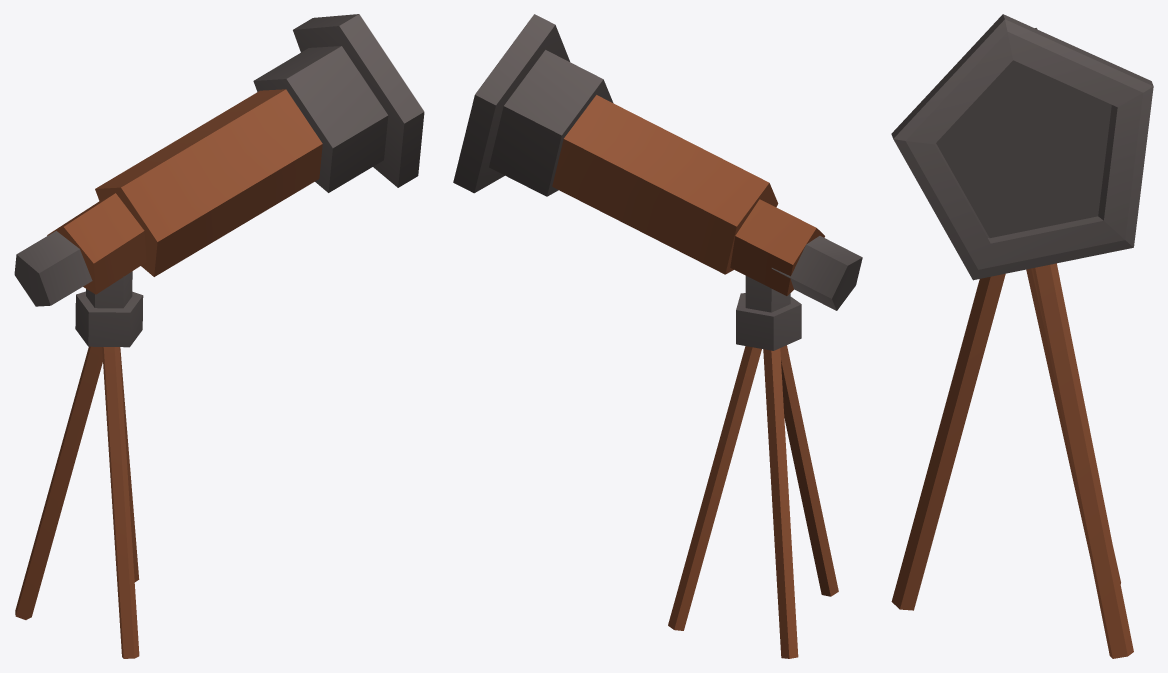
File: Telescope.fbx
The picture shows the model from 3 angles, left to right: view 1: azimuth 30°, elevation 25°; view 2: azimuth 150°, elevation 25°; view 3: azimuth 270°, elevation 25°; orthographic projection. The views are drawn at different scales.
Visible parts, largest first — view 1: Telescope; view 2: Telescope; view 3: Telescope.
Part boxes in pixels (x1,y1,x2,y2): Telescope: [14, 14, 424, 658]; Telescope: [453, 14, 862, 658]; Telescope: [891, 14, 1153, 658].
Bounding box in the file's own units: 96.22 × 135 × 41.63.
